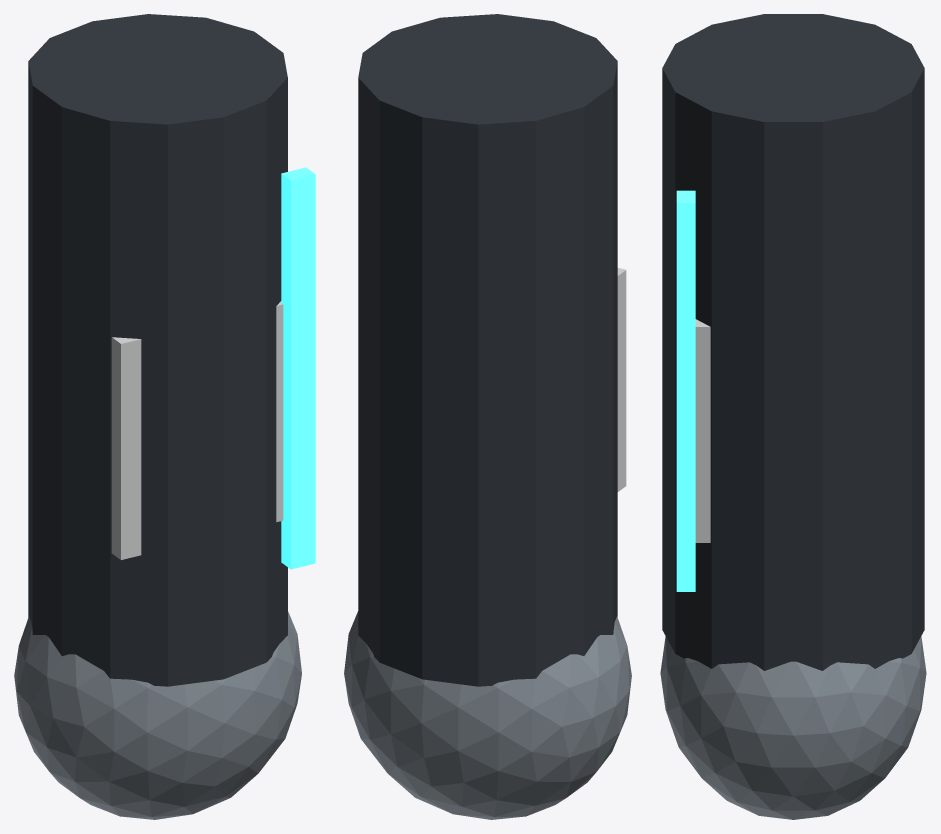
File: full_cyber_arm.glb
3 views of the same model, side by side, from view 1: azimuth 30°, elevation 25°; view 2: azimuth 150°, elevation 25°; view 3: azimuth 270°, elevation 25° (orthographic).
Parts seen in each view (by area): view 1: part_001, part_000, part_004, part_003; view 2: part_001, part_000, part_003; view 3: part_001, part_000, part_004, part_003.
Boxes of the visible parts, x1=… form: part_001: x1=28, y1=14, x2=287, y2=686; part_000: x1=14, y1=611, x2=301, y2=819; part_004: x1=281, y1=167, x2=315, y2=569; part_003: x1=111, y1=301, x2=283, y2=559; part_001: x1=358, y1=14, x2=617, y2=686; part_000: x1=344, y1=611, x2=631, y2=819; part_003: x1=617, y1=268, x2=626, y2=491; part_001: x1=662, y1=14, x2=924, y2=670; part_000: x1=660, y1=636, x2=926, y2=819; part_004: x1=676, y1=190, x2=695, y2=591; part_003: x1=695, y1=319, x2=710, y2=542.
Size of the model in its own units: 0.124 by 0.342 by 0.1116.
